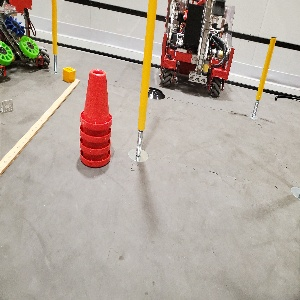Red_4: (77, 64, 116, 174)
